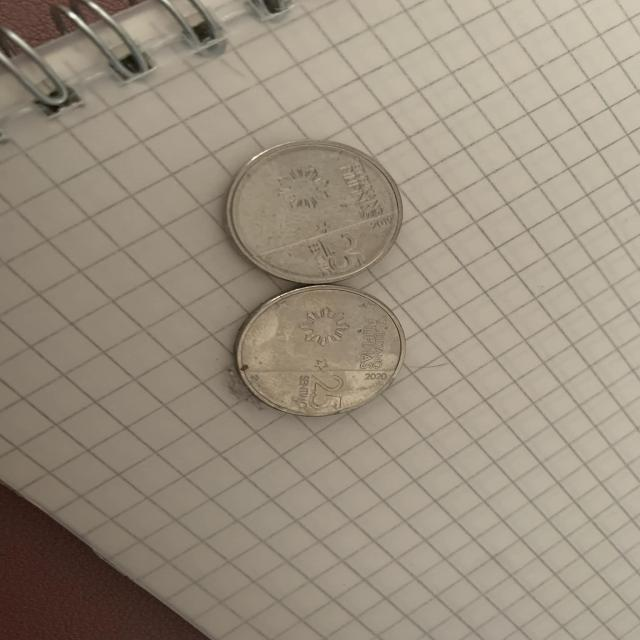25 cents: (210, 127, 412, 287), (225, 286, 413, 428)
